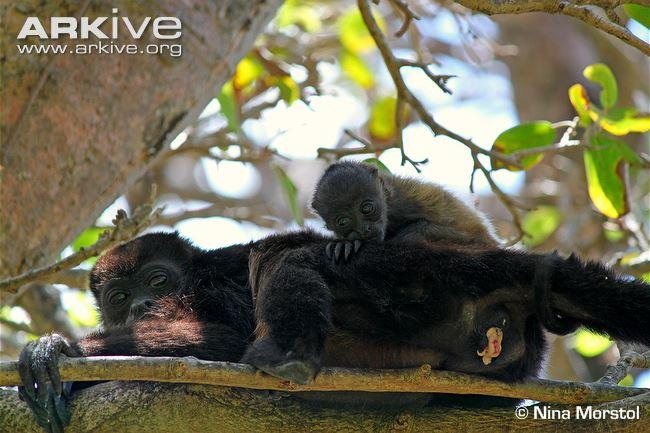monkey: (82, 163, 650, 385)
